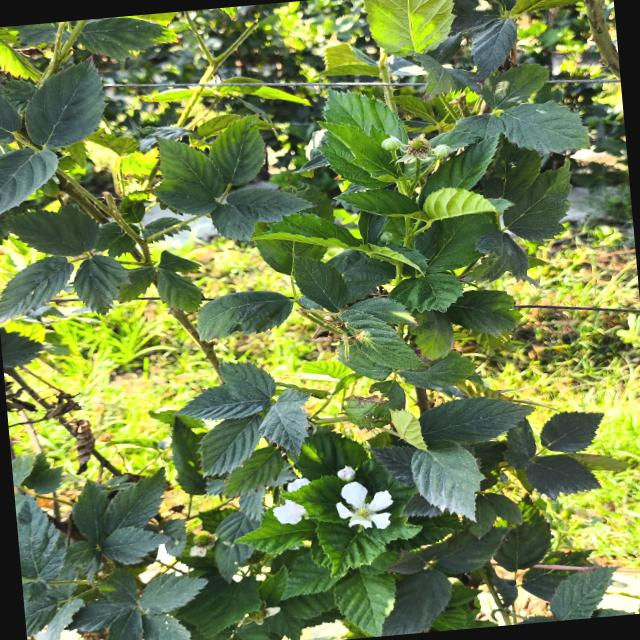boton: (381, 136, 402, 151), (336, 465, 355, 481), (433, 144, 451, 157)
flor: (336, 481, 393, 528), (273, 500, 305, 524), (287, 478, 309, 491)
